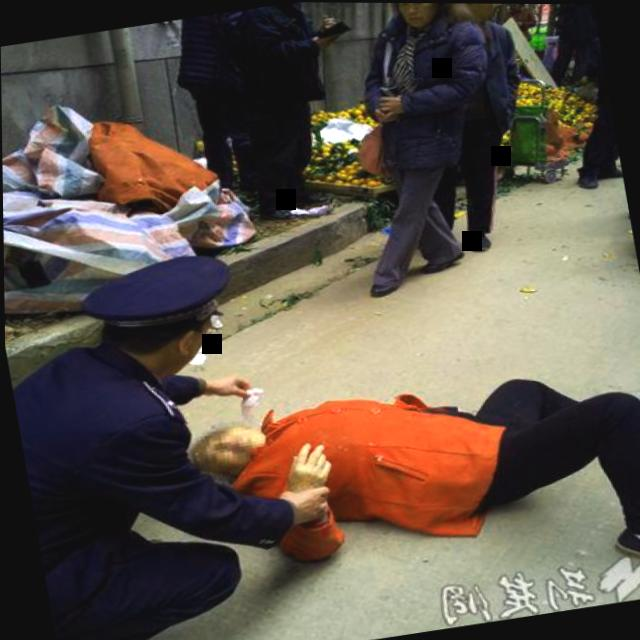Fall-Detected: (170, 307, 640, 629)
